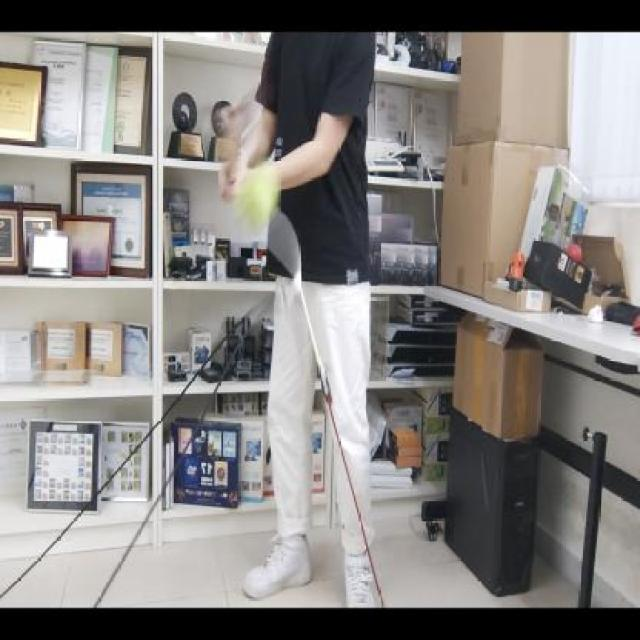baseball: (233, 163, 284, 234)
